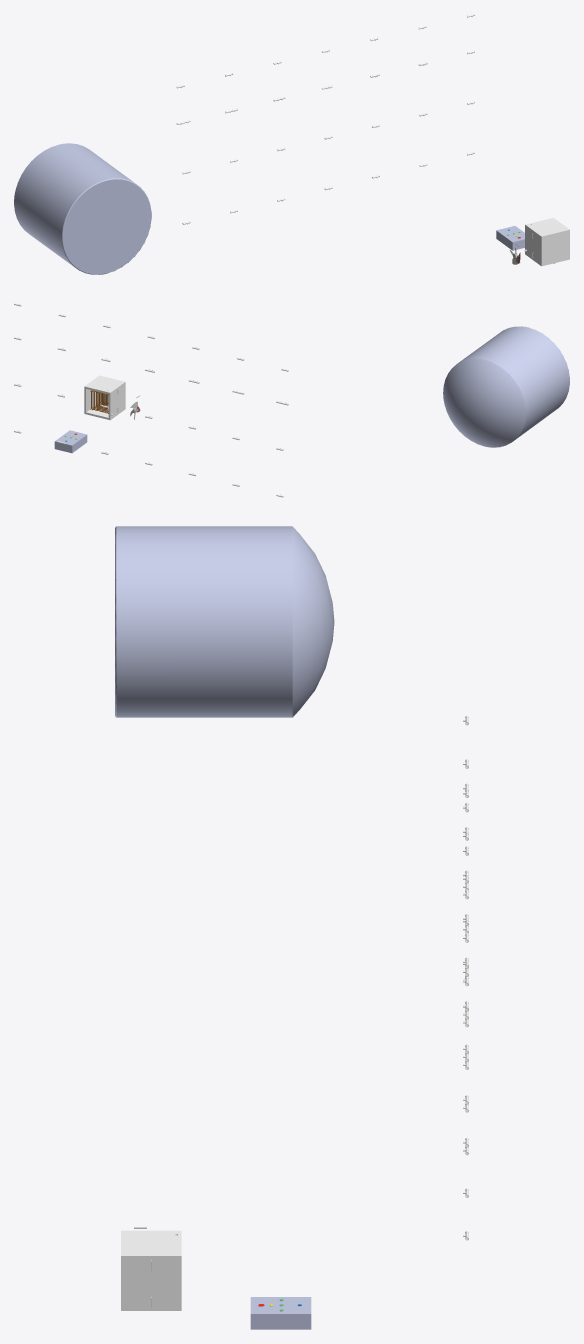
The model's file is campus-parts.glb.
The picture shows the model from 3 angles, top to bottom: view 1: azimuth 30°, elevation 25°; view 2: azimuth 150°, elevation 25°; view 3: azimuth 270°, elevation 25°; orthographic projection. The views are drawn at different scales.
Parts seen in each view (by area): view 1: storage__35, ch4_cool__121, ch1_enable__90; view 2: storage__35, ch4_cool__121, ch1_enable__90, ch4_cool__153; view 3: storage__35, ch4_cool__121, ch1_enable__90.
Boxes of the visible parts, x1,y1,x2,y2 form: storage__35: (14, 143, 151, 274); ch4_cool__121: (524, 217, 569, 266); ch1_enable__90: (496, 226, 524, 250); storage__35: (443, 326, 569, 447); ch4_cool__121: (84, 375, 125, 420); ch1_enable__90: (54, 430, 87, 453); ch4_cool__153: (90, 390, 108, 413); storage__35: (115, 526, 334, 717); ch4_cool__121: (121, 1230, 181, 1310); ch1_enable__90: (250, 1297, 311, 1329).
Bounding box in the file's own units: 10.76 × 4.15 × 3.51.
